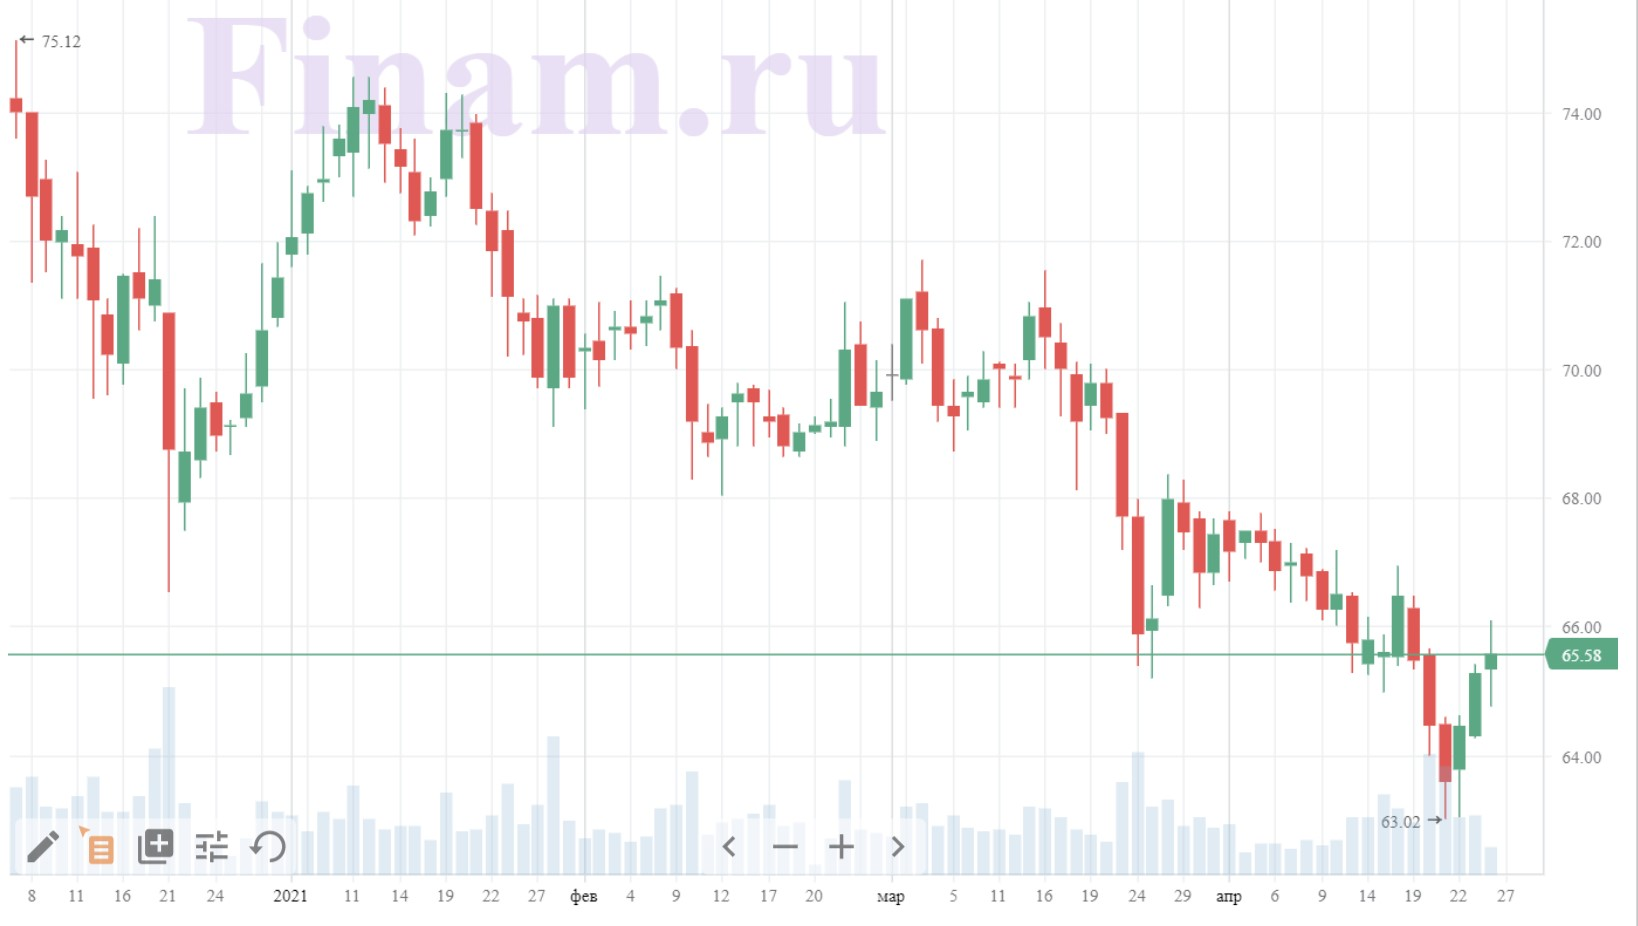bearishEngulfing: (579, 311, 607, 406)
bullishEngulfing: (529, 288, 562, 430), (100, 266, 130, 389)
